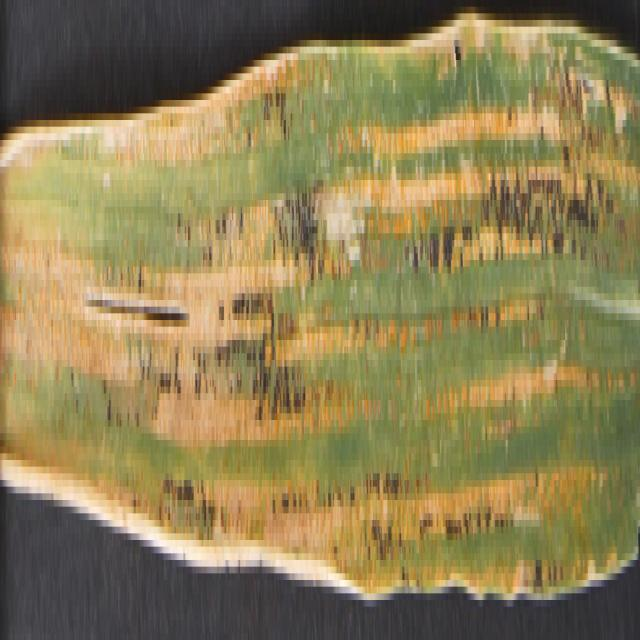leaf rust: (0, 19, 640, 573)
